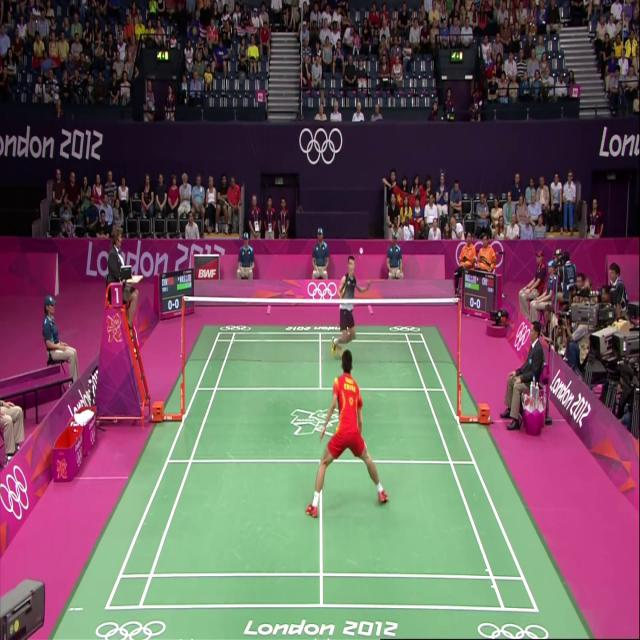Net: (180, 294, 461, 369)
Player1: (304, 329, 394, 522)
Player2: (331, 250, 367, 355)
Shuttlecock: (356, 241, 366, 259)
